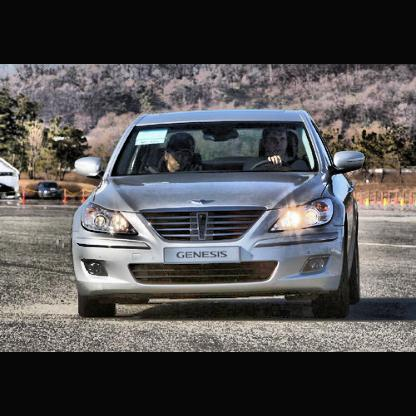Hyundai Genesis Sedan 2012: (71, 109, 369, 324)
